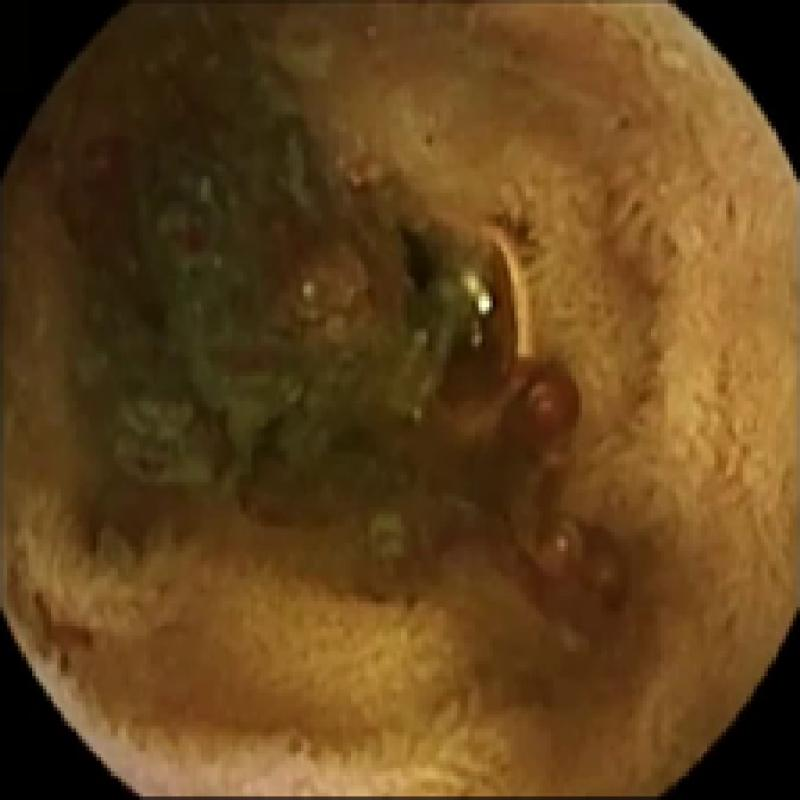bleeding: (421, 315, 581, 451), (496, 520, 636, 624), (57, 139, 125, 250)
